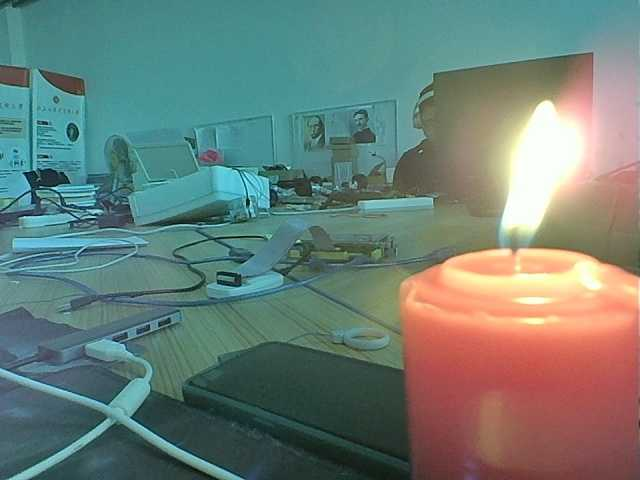candle: (391, 257, 640, 480)
fire: (490, 91, 573, 271)
